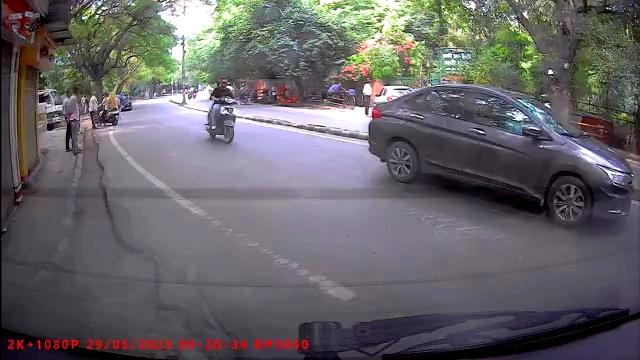motorcycle_without_helmet: (205, 77, 239, 146)
